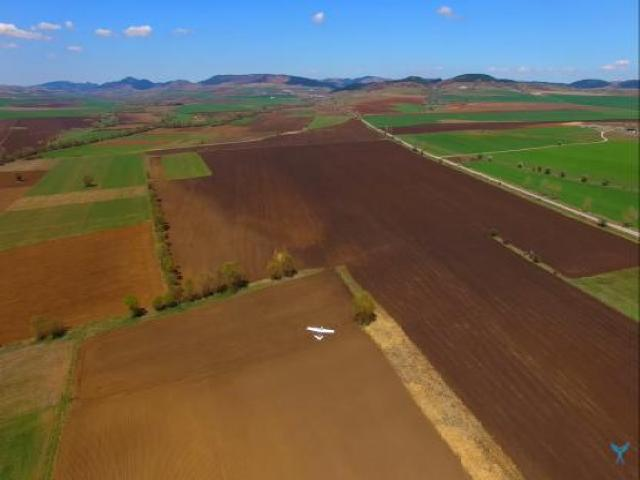uav: (303, 320, 340, 344)
